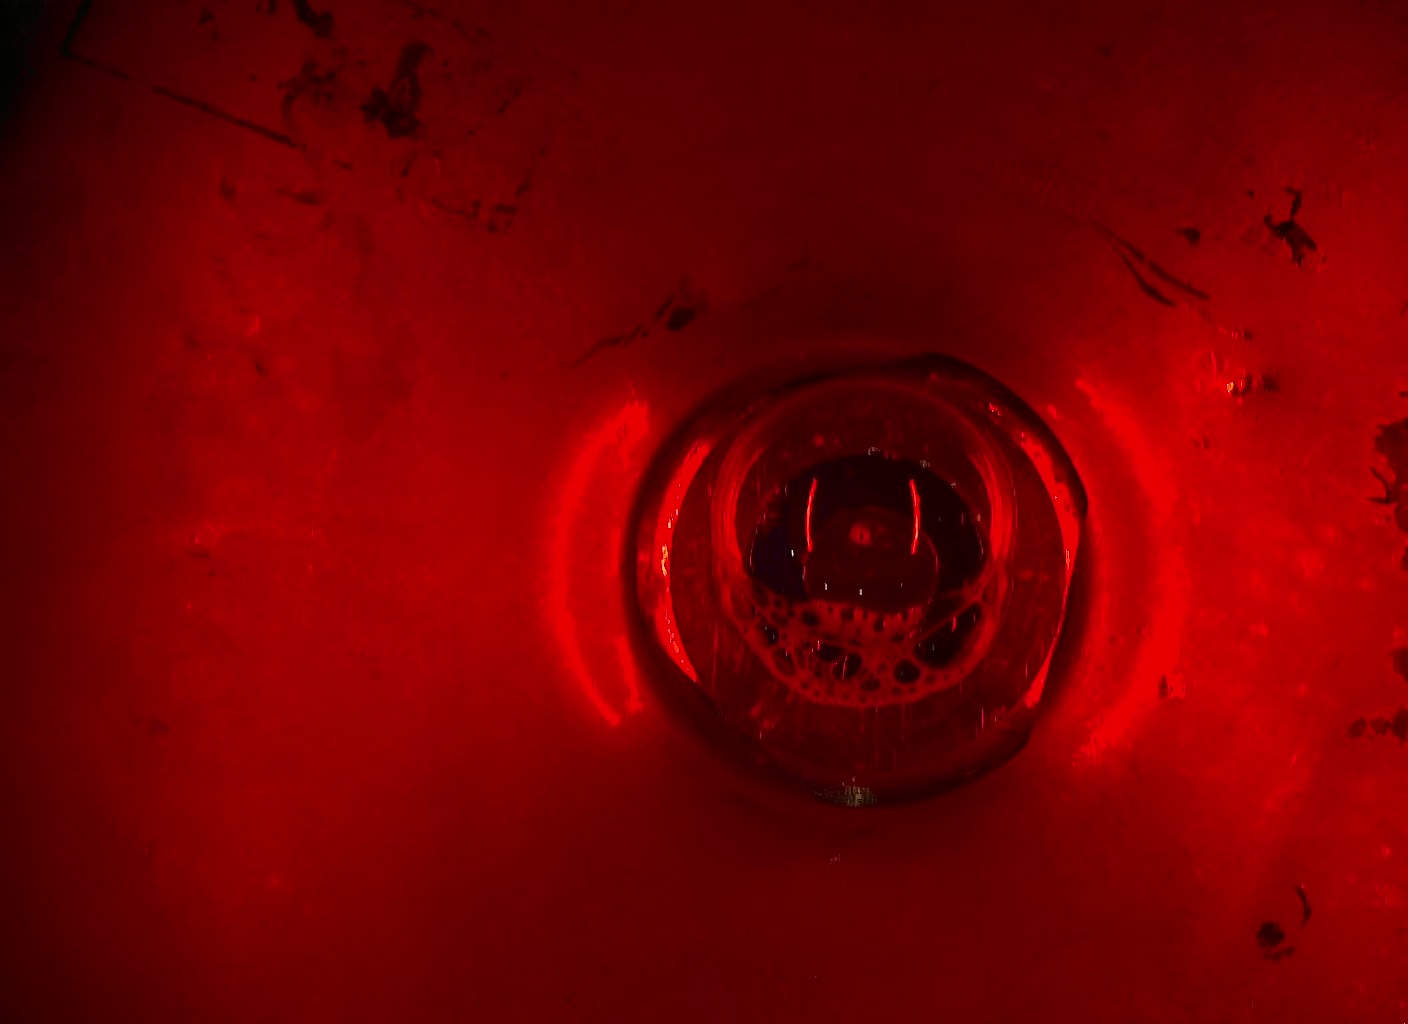pena: (709, 372, 1025, 713)
